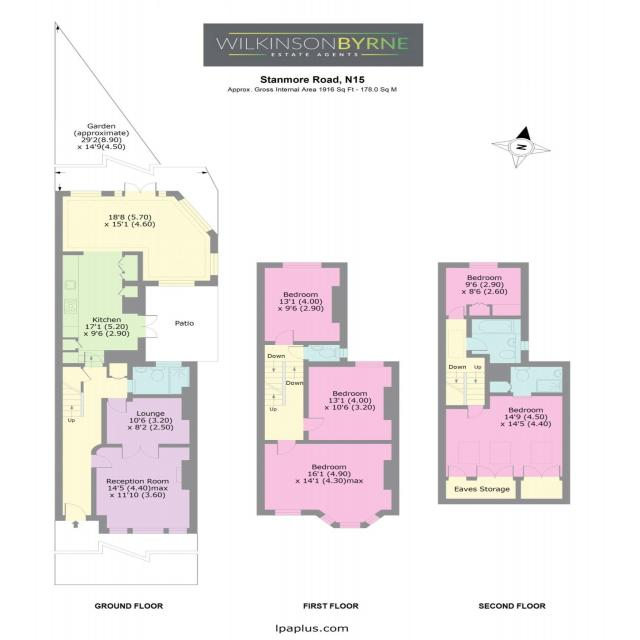DOOR: (64, 502, 87, 521), (276, 439, 297, 456), (466, 337, 489, 352), (83, 351, 104, 367), (303, 417, 325, 432), (287, 346, 309, 360), (91, 454, 113, 468), (274, 330, 294, 345), (466, 405, 484, 419), (447, 306, 465, 319)
DOUBLE DOOR: (138, 314, 161, 339), (124, 182, 156, 197)
ROOM: (55, 182, 219, 367), (438, 392, 571, 505), (256, 440, 399, 529), (91, 443, 198, 534), (303, 361, 400, 444), (256, 262, 348, 345), (438, 262, 529, 319)
WINDOW: (177, 197, 214, 233), (282, 262, 323, 269), (364, 513, 383, 527), (158, 280, 195, 287), (319, 513, 337, 526), (131, 527, 164, 534), (70, 190, 102, 197), (468, 261, 499, 268), (210, 252, 219, 276), (274, 509, 303, 516), (155, 361, 183, 368), (354, 361, 385, 367), (338, 522, 362, 529), (109, 527, 129, 534), (168, 527, 188, 534), (520, 341, 530, 351), (339, 348, 348, 358), (114, 190, 123, 197), (158, 190, 167, 197)
